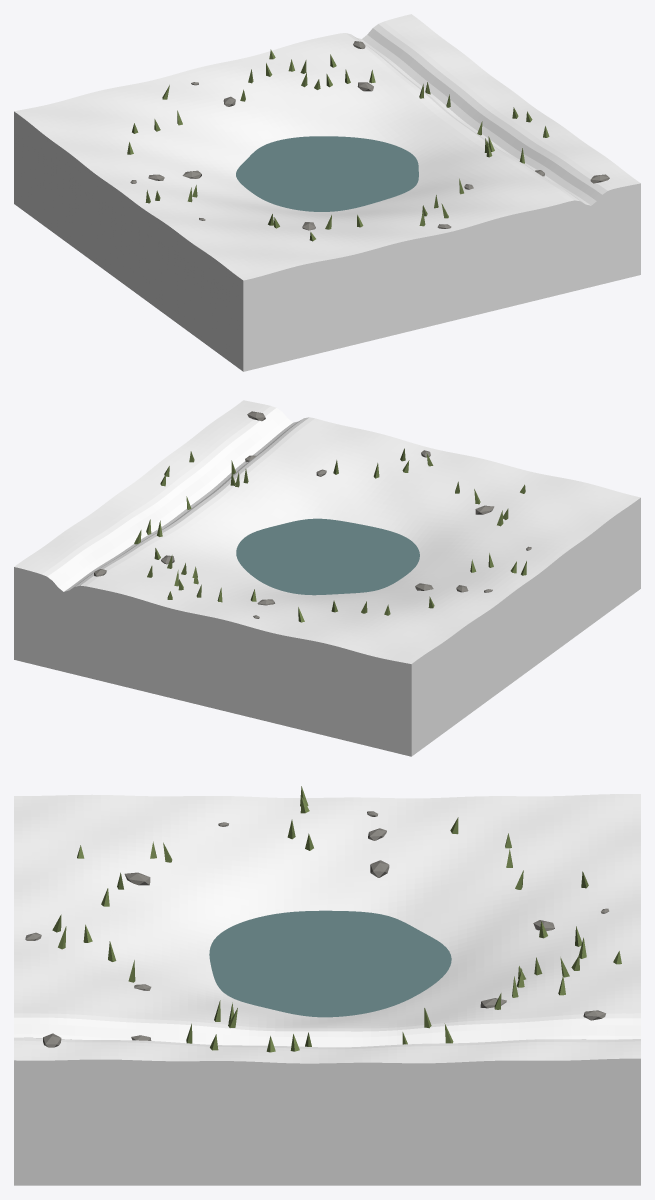
The model's file is 泽洼域.glb.
3 views of the same model, one above another, from view 1: azimuth 30°, elevation 25°; view 2: azimuth 150°, elevation 25°; view 3: azimuth 270°, elevation 25° (orthographic). The views are drawn at different scales.
Visible parts, largest first — view 1: 01 Surface - sculptable grid, 02 Soil profile - topsoil and subsoil, 03 Shallow standing water; view 2: 01 Surface - sculptable grid, 02 Soil profile - topsoil and subsoil, 03 Shallow standing water; view 3: 01 Surface - sculptable grid, 02 Soil profile - topsoil and subsoil, 03 Shallow standing water.
Part boxes in pixels (left/top/right/bottom): 01 Surface - sculptable grid: left=14, top=14, right=640, bottom=280; 02 Soil profile - topsoil and subsoil: left=14, top=111, right=640, bottom=371; 03 Shallow standing water: left=236, top=136, right=418, bottom=211; 01 Surface - sculptable grid: left=14, top=400, right=640, bottom=663; 02 Soil profile - topsoil and subsoil: left=14, top=498, right=640, bottom=756; 03 Shallow standing water: left=236, top=518, right=419, bottom=595; 01 Surface - sculptable grid: left=14, top=794, right=640, bottom=1063; 02 Soil profile - topsoil and subsoil: left=14, top=1058, right=640, bottom=1185; 03 Shallow standing water: left=209, top=910, right=451, bottom=1017.
Bounding box in the file's own units: 6 × 1.49 × 6.
